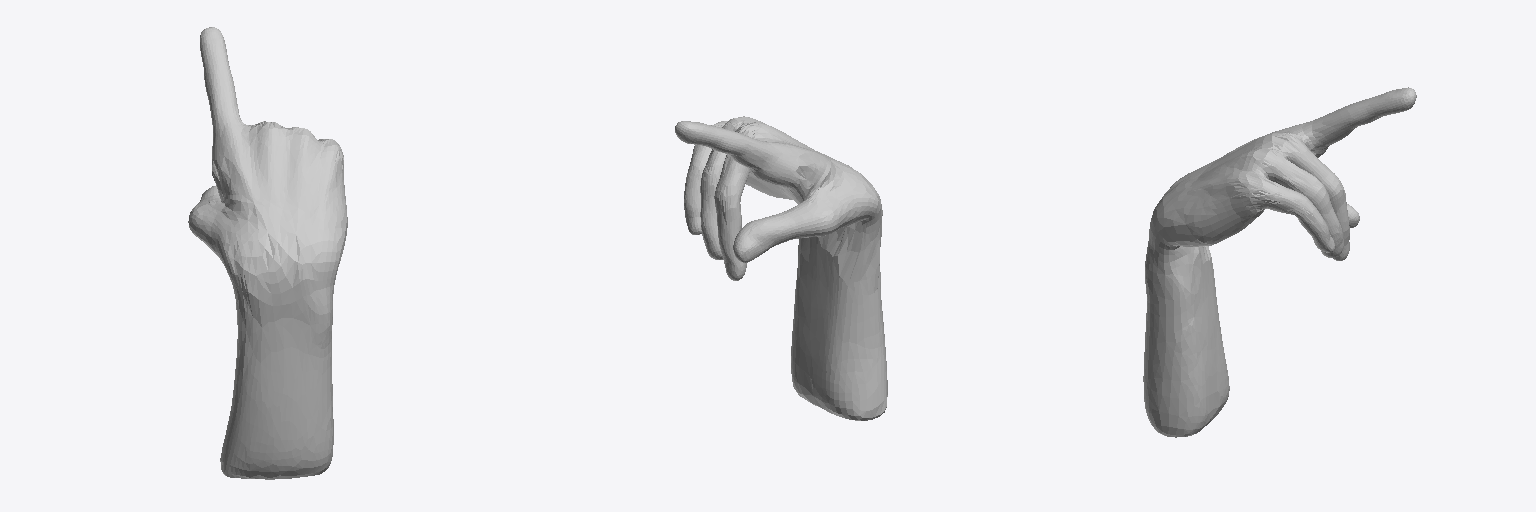
Rendered from mainp.obj.
The picture shows the model from 3 angles: view 1: azimuth 30°, elevation 25°; view 2: azimuth 150°, elevation 25°; view 3: azimuth 270°, elevation 25°; orthographic projection.
Visible parts, largest first — view 1: ZBrush_defualt_group; view 2: ZBrush_defualt_group; view 3: ZBrush_defualt_group.
Part boxes in pixels (x1,y1,x2,y2): ZBrush_defualt_group: (188,27,347,479); ZBrush_defualt_group: (675,116,887,420); ZBrush_defualt_group: (1143,87,1416,437).
Size of the model in its own units: 3.24 by 7.31 by 5.13.